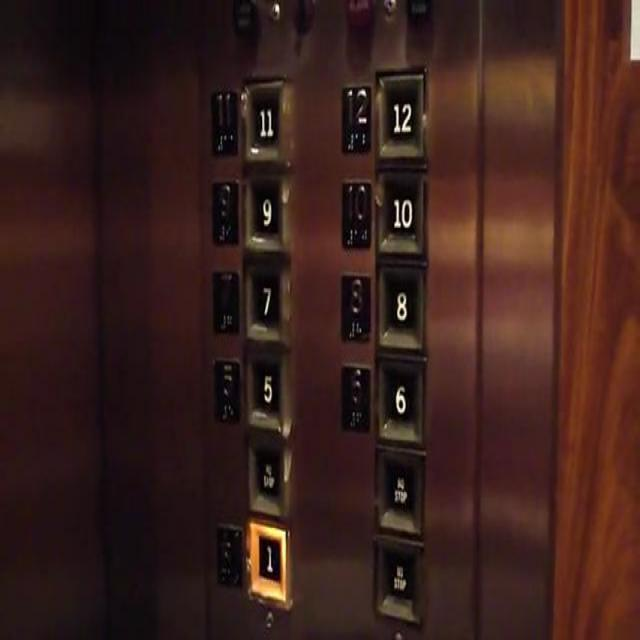1: (242, 508, 296, 613)
10: (369, 166, 430, 266), (335, 172, 373, 256)
11: (238, 75, 296, 176), (208, 84, 238, 161)
12: (371, 63, 433, 173), (336, 79, 373, 161)
5: (242, 342, 295, 438), (210, 353, 244, 427)
6: (372, 350, 427, 450), (336, 360, 375, 436)
7: (240, 254, 294, 350), (209, 266, 242, 338)
8: (373, 261, 430, 356), (338, 267, 373, 348)
9: (238, 162, 292, 262), (204, 176, 242, 251)
text_blur: (372, 532, 429, 629), (372, 442, 426, 538), (244, 428, 295, 523), (213, 515, 245, 593)
